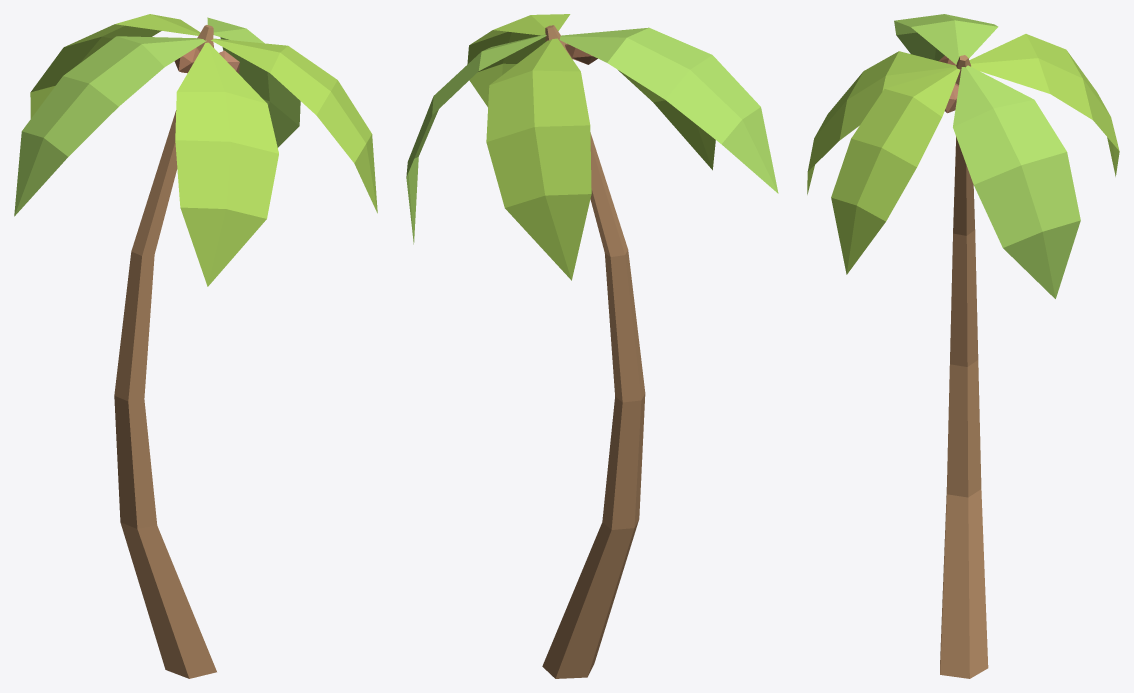
File: Palm_Tree_Coconut_OneSided_s_03_LOD.fbx
The picture shows the model from 3 angles, left to right: view 1: azimuth 30°, elevation 25°; view 2: azimuth 150°, elevation 25°; view 3: azimuth 270°, elevation 25°; orthographic projection. The views are drawn at different scales.
Visible parts, largest first — view 1: Palm_Tree_Coconut_OneSided_s_03_LOD0; view 2: Palm_Tree_Coconut_OneSided_s_03_LOD0; view 3: Palm_Tree_Coconut_OneSided_s_03_LOD0.
Part boxes in pixels (x1,y1,x2,y2): Palm_Tree_Coconut_OneSided_s_03_LOD0: (14, 14, 377, 678); Palm_Tree_Coconut_OneSided_s_03_LOD0: (406, 14, 778, 678); Palm_Tree_Coconut_OneSided_s_03_LOD0: (807, 14, 1119, 678).
Size of what is drawn, in the model's own units: 236 by 431 by 196.
